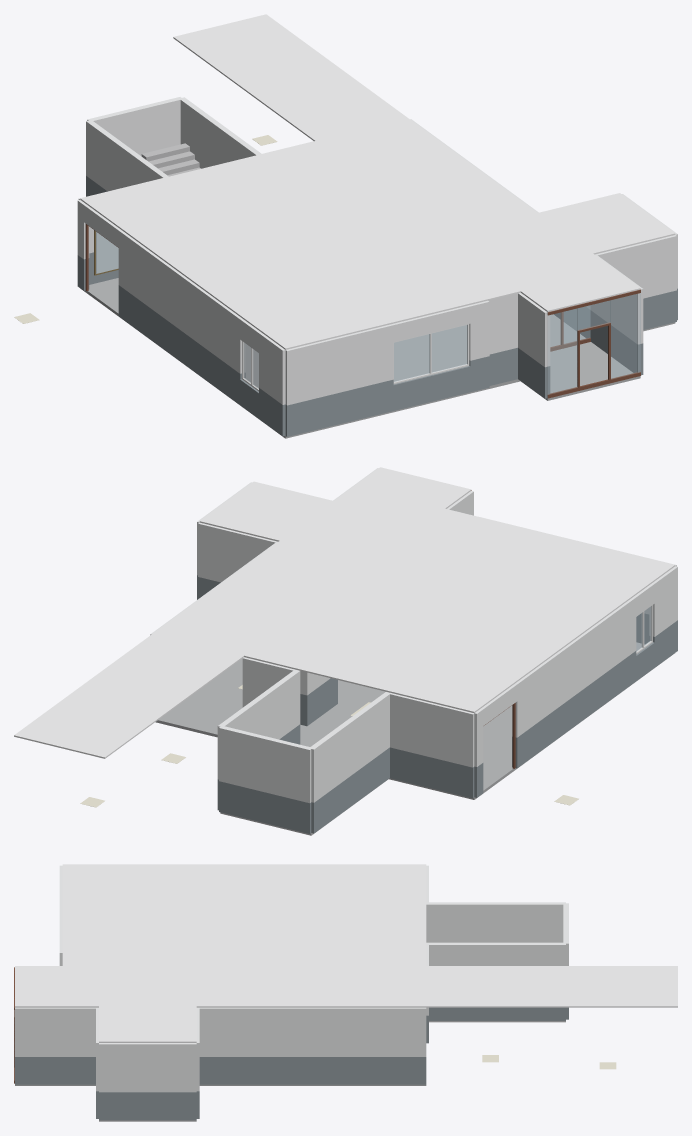
File: hall.glb
The picture shows the model from 3 angles, top to bottom: view 1: azimuth 30°, elevation 25°; view 2: azimuth 150°, elevation 25°; view 3: azimuth 270°, elevation 25°; orthographic projection. The views are drawn at different scales.
Visible parts, largest first — view 1: Hall_ceiling, Hall_wall, Hall_wain, Hall_glass, Hall_floor, Hall_frame, Hall_granite, Hall_white, Hall_mirror; view 2: Hall_ceiling, Hall_wall, Hall_wain, Hall_floor, Hall_tile; view 3: Hall_ceiling, Hall_wall, Hall_wain, Hall_floor.
Part boxes in pixels (x1=…): Hall_ceiling: x1=80, y1=14, x2=675, y2=349; Hall_wall: x1=77, y1=97, x2=677, y2=405; Hall_wain: x1=77, y1=176, x2=677, y2=436; Hall_glass: x1=243, y1=293, x2=640, y2=394; Hall_floor: x1=80, y1=278, x2=675, y2=438; Hall_frame: x1=85, y1=224, x2=640, y2=398; Hall_granite: x1=141, y1=143, x2=200, y2=176; Hall_white: x1=242, y1=324, x2=469, y2=391; Hall_mirror: x1=96, y1=231, x2=118, y2=273; Hall_ceiling: x1=14, y1=467, x2=675, y2=758; Hall_wall: x1=150, y1=468, x2=677, y2=803; Hall_wain: x1=197, y1=575, x2=677, y2=833; Hall_floor: x1=155, y1=642, x2=674, y2=799; Hall_tile: x1=80, y1=685, x2=578, y2=807; Hall_ceiling: x1=15, y1=864, x2=677, y2=1042; Hall_wall: x1=15, y1=865, x2=568, y2=1092; Hall_wain: x1=15, y1=1007, x2=568, y2=1120; Hall_floor: x1=15, y1=1084, x2=426, y2=1121.
Bounding box in the file's own units: 18.1 × 3.15 × 23.74.
